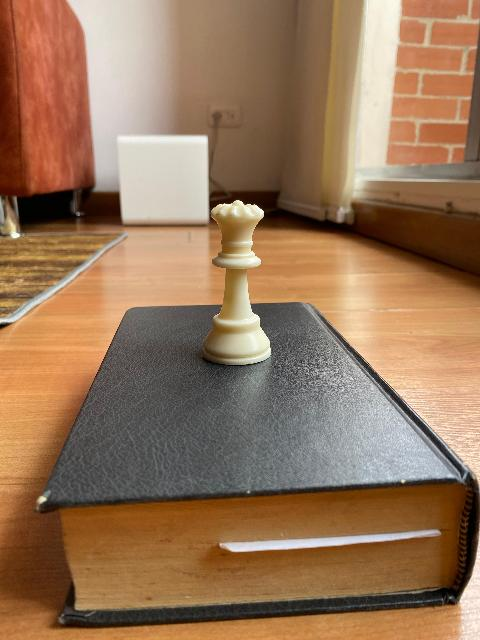white-queen: (202, 199, 272, 365)
